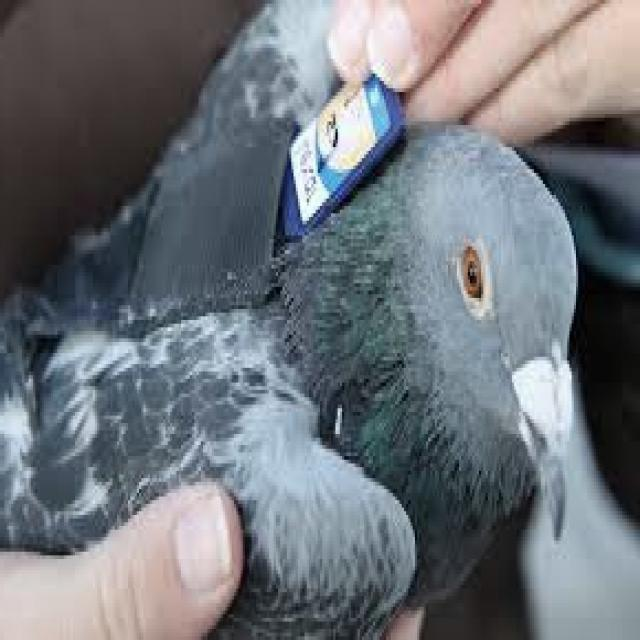pigeon: (2, 0, 578, 636)
